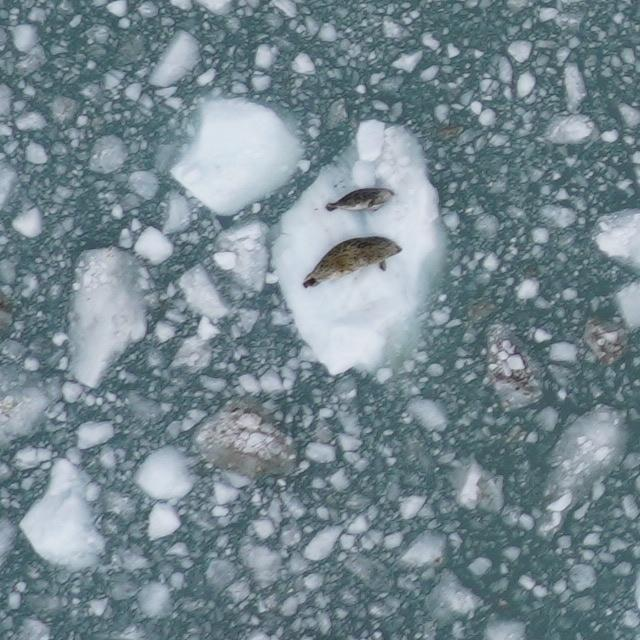seal: (298, 232, 407, 294), (321, 184, 402, 215)
